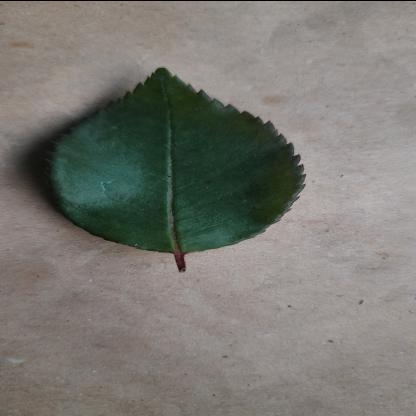normal: (46, 64, 310, 254)
